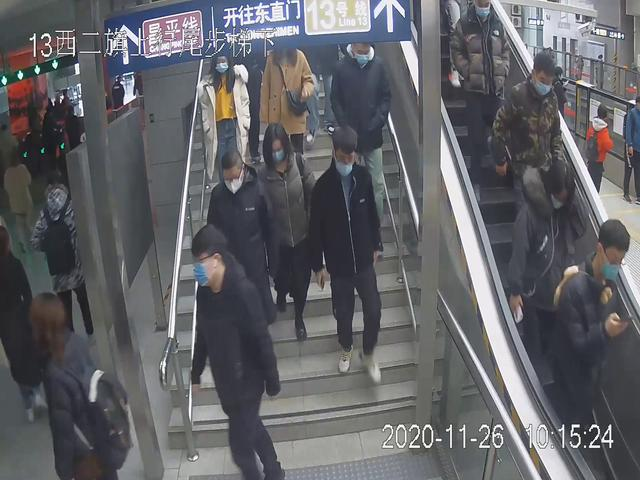person: (182, 224, 287, 480), (552, 216, 638, 471), (24, 284, 134, 480), (306, 124, 387, 388), (501, 157, 576, 381), (203, 149, 282, 345), (489, 47, 565, 245), (251, 123, 318, 342), (325, 35, 394, 247), (447, 1, 515, 212), (193, 52, 258, 202)
